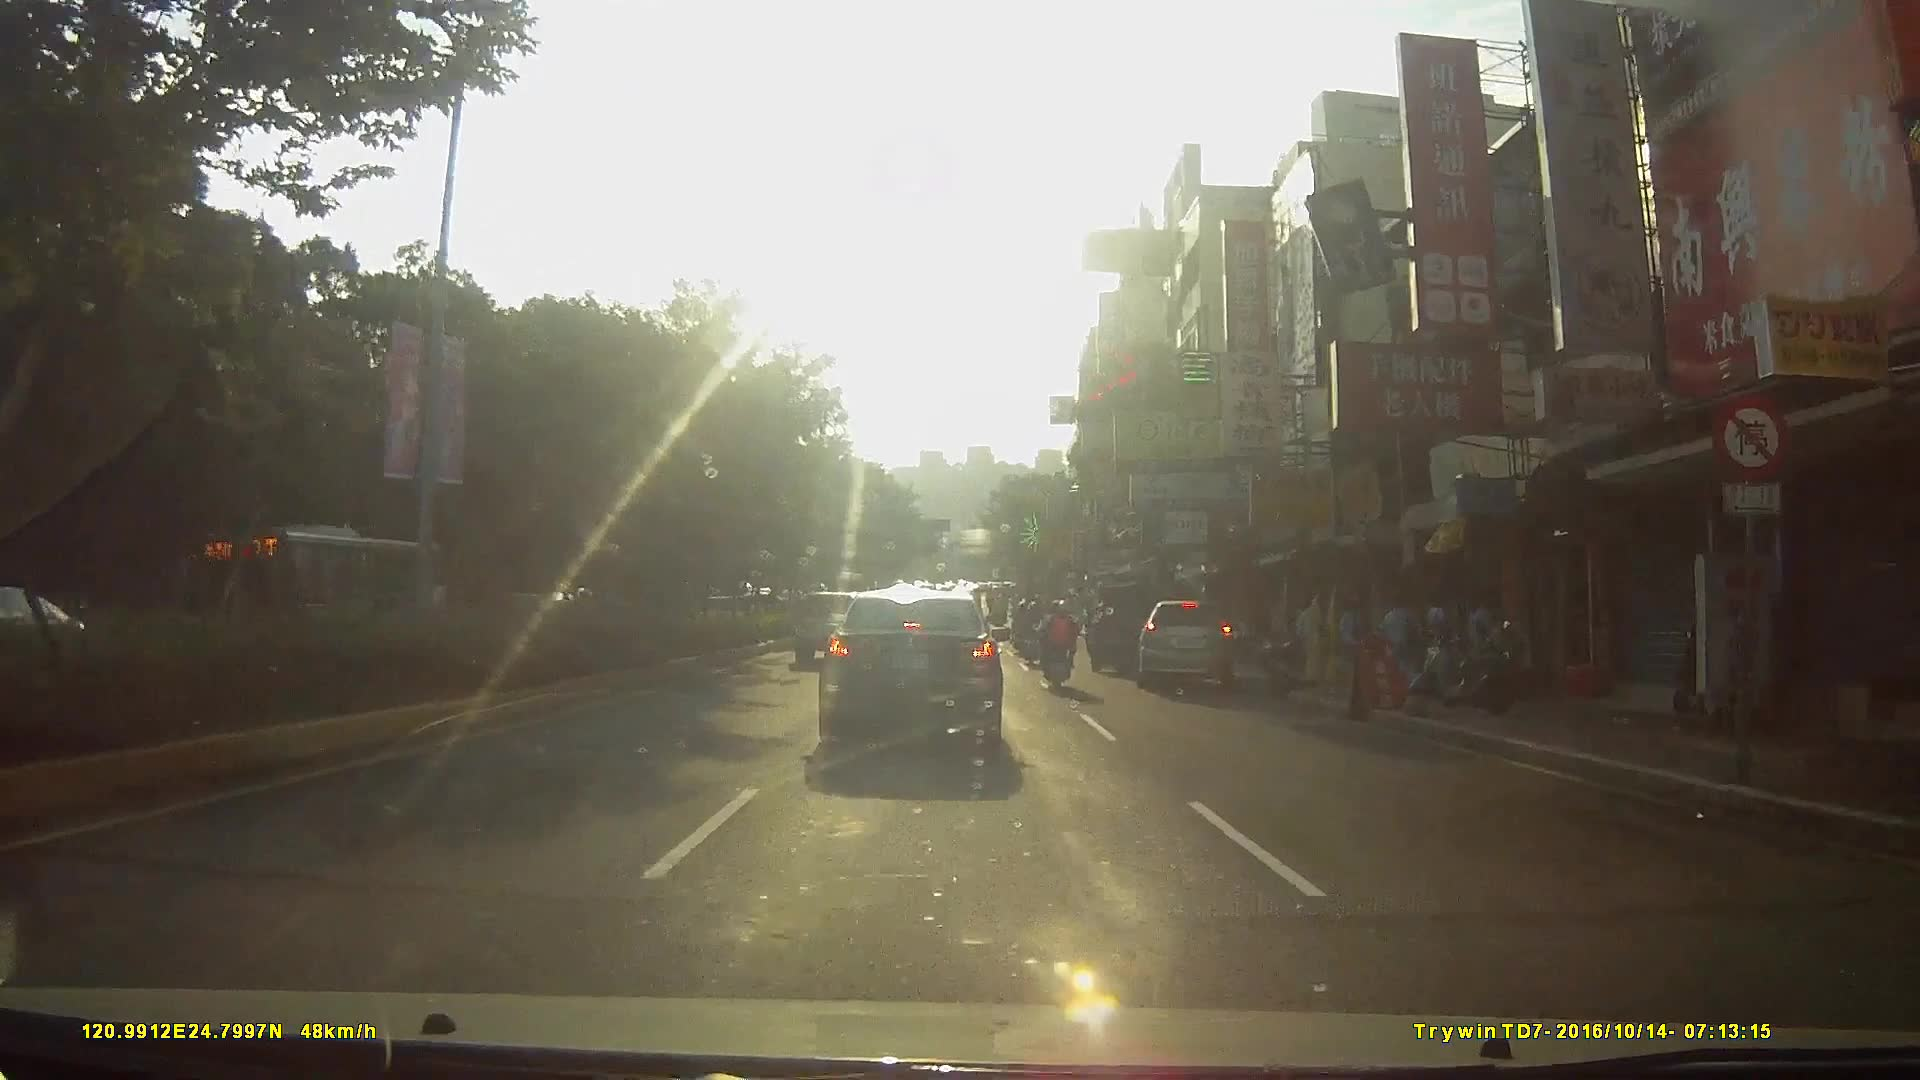pedestrian: (1382, 598, 1423, 690), (1427, 595, 1447, 671)
rider: (1039, 597, 1084, 695), (1017, 601, 1043, 668)
vehicle: (819, 589, 1030, 767), (195, 521, 447, 667), (1144, 600, 1253, 701), (1078, 576, 1178, 683)
